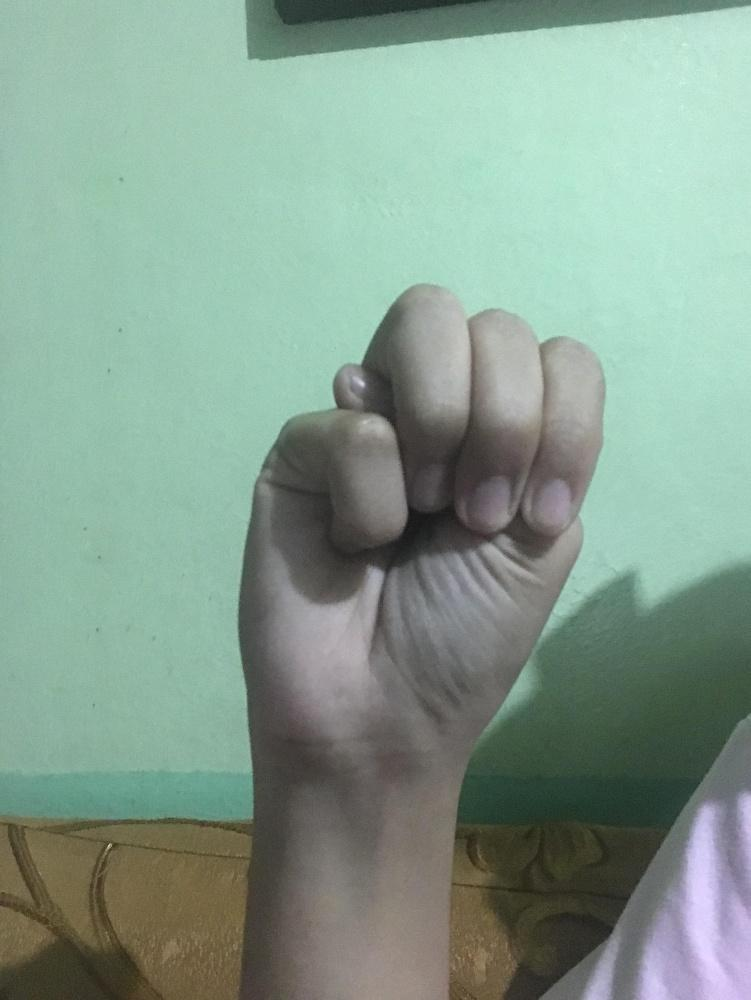m: (232, 274, 606, 757)
